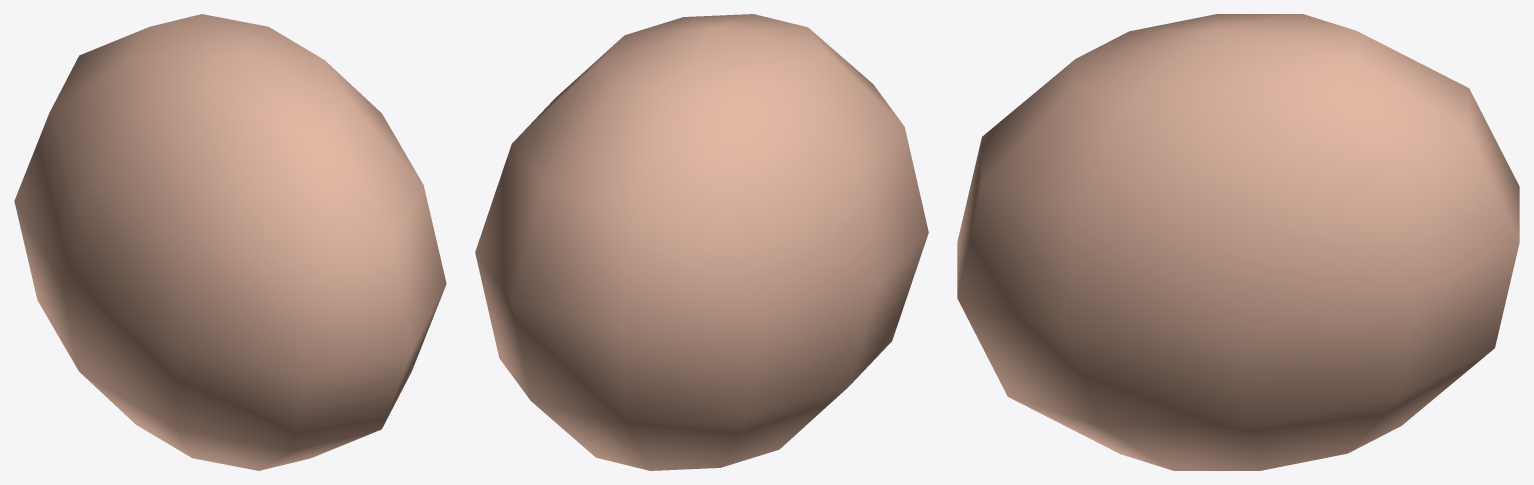
Rendered from SM_W02_Climber_Fist1_L.fbx.
3 views of the same model, side by side, from view 1: azimuth 30°, elevation 25°; view 2: azimuth 150°, elevation 25°; view 3: azimuth 270°, elevation 25° (orthographic). The views are drawn at different scales.
Visible parts, largest first — view 1: SM_W02_Climber_Fist1_L; view 2: SM_W02_Climber_Fist1_L; view 3: SM_W02_Climber_Fist1_L.
Boxes of the visible parts, x1,y1,x2,y2 form: SM_W02_Climber_Fist1_L: (14,14,446,470); SM_W02_Climber_Fist1_L: (475,14,928,470); SM_W02_Climber_Fist1_L: (957,14,1519,470).
Size of the model in its own units: 0.17 by 0.2269 by 0.1889.
